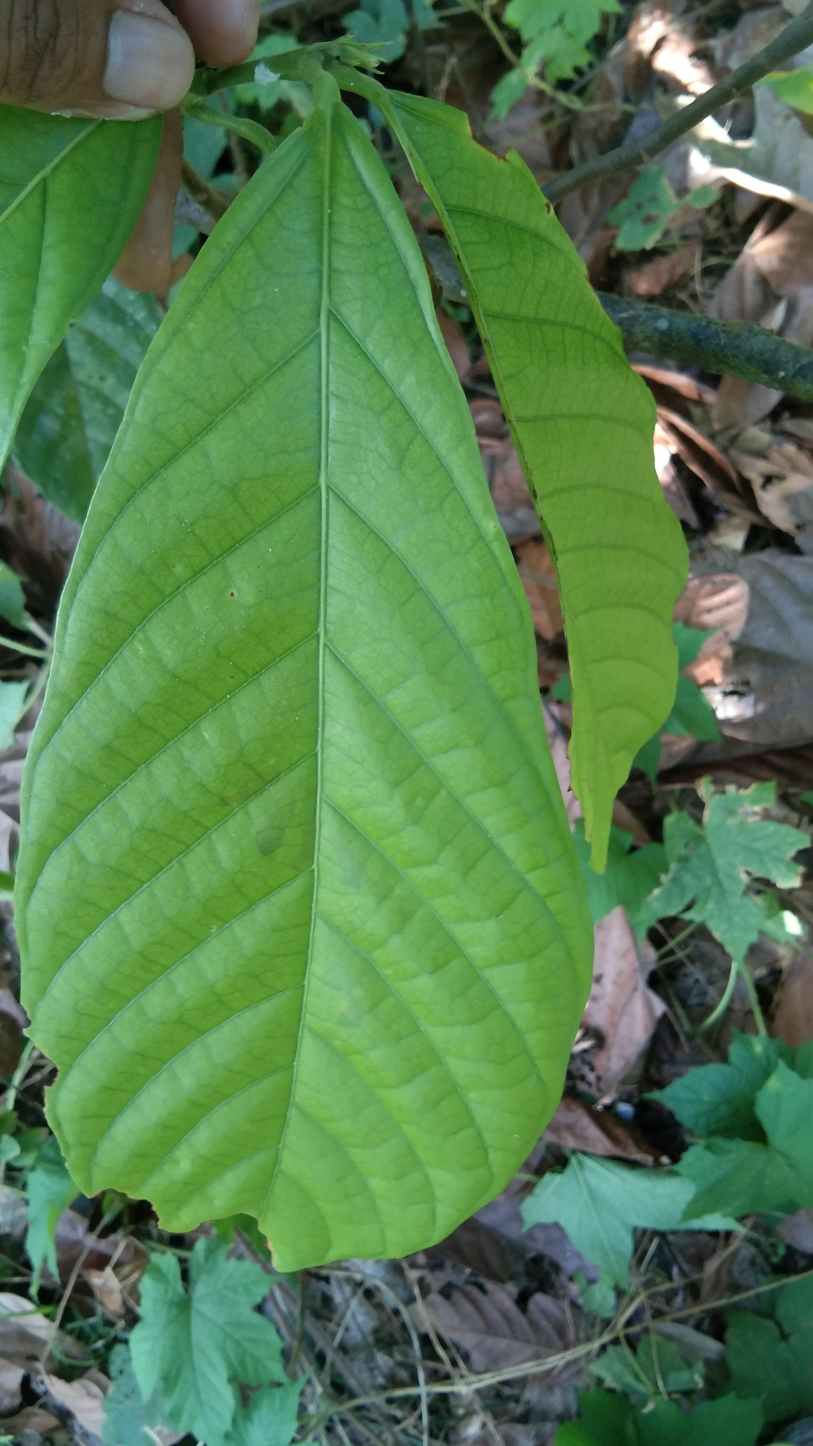deficiencia_potasio: (0, 98, 624, 1311)
